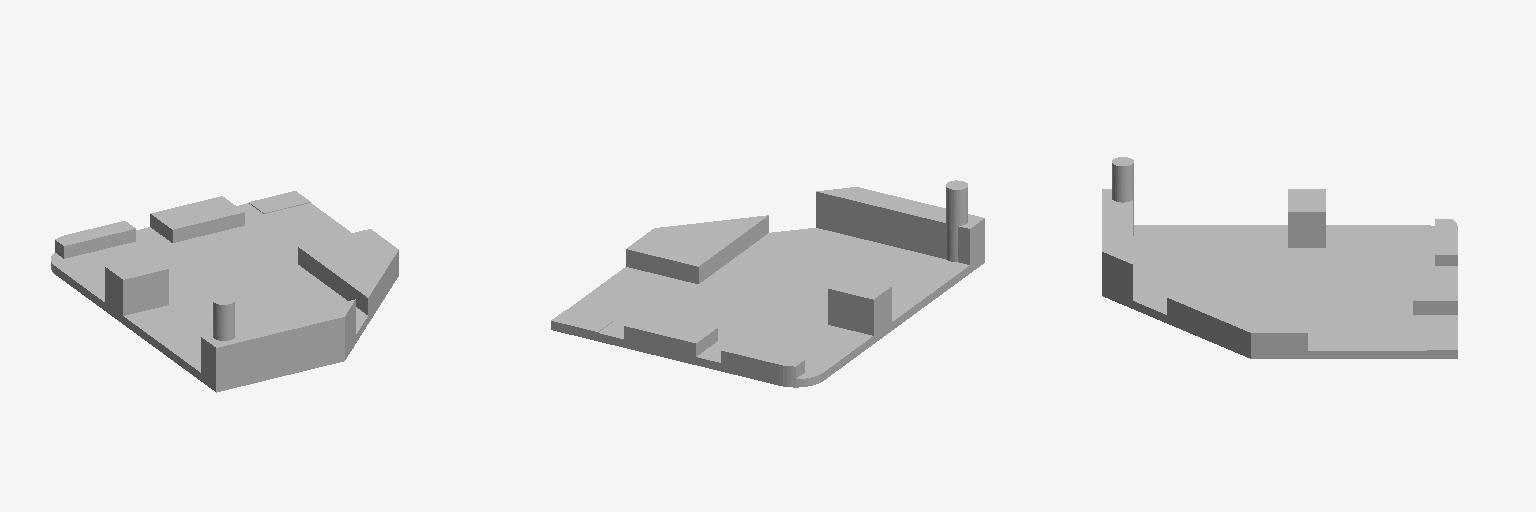
The model's file is main-spacer.obj.
3 views of the same model, side by side, from view 1: azimuth 30°, elevation 25°; view 2: azimuth 150°, elevation 25°; view 3: azimuth 270°, elevation 25° (orthographic).
Parts seen in each view (by area): view 1: Body6; view 2: Body6; view 3: Body6.
Boxes of the visible parts, <box> form: Body6: <box>51,191,398,392</box>; Body6: <box>551,180,984,387</box>; Body6: <box>1102,157,1457,358</box>.
Bounding box in the file's own units: 32 × 9.6 × 38.33.